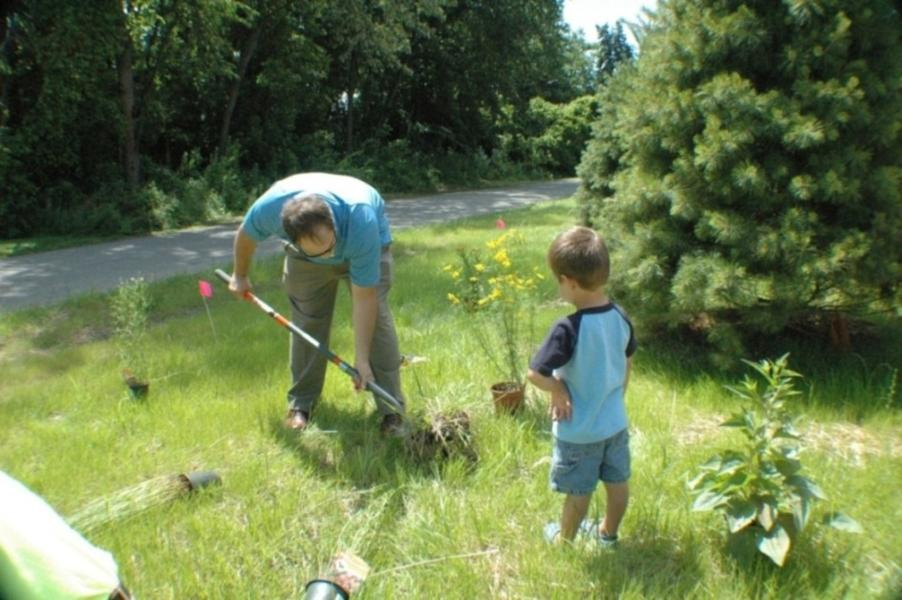person: (228, 172, 411, 443)
